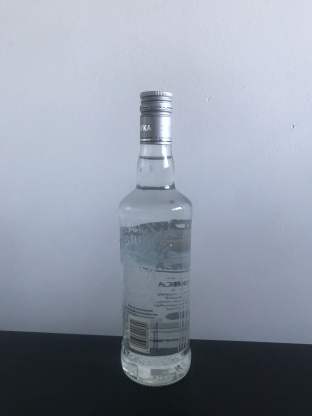nakretka: (138, 89, 174, 145)
